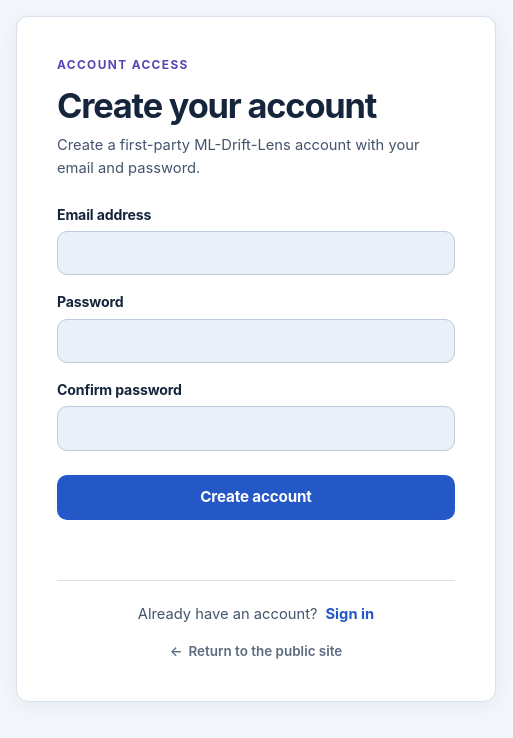
Test: Authentication pages › requires matching confirmation and navigates to sign-in only after server registration succeeds
Expected: the heading "Create your account" is shown, [57,85,376,126]
Type "new@example.test" into the field labelled "Email address" at x=256, y=253, box [57,231,455,275]
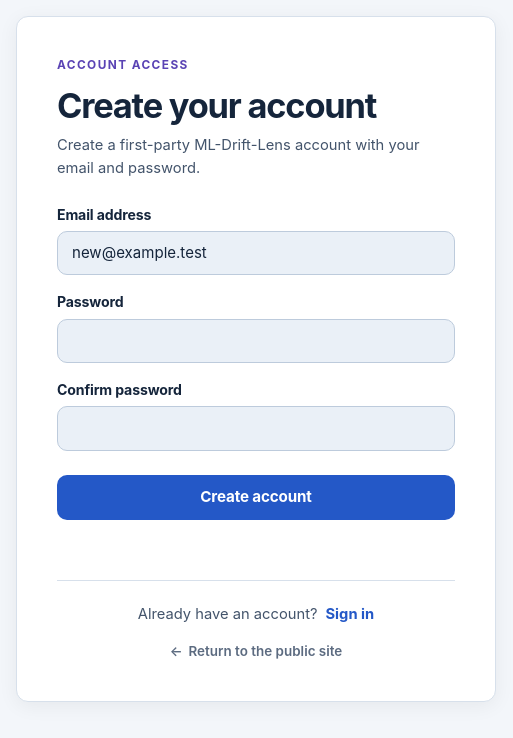
Type "a-long-secure-password" into the password field labelled "Password" at x=256, y=341, box [57,318,455,363]
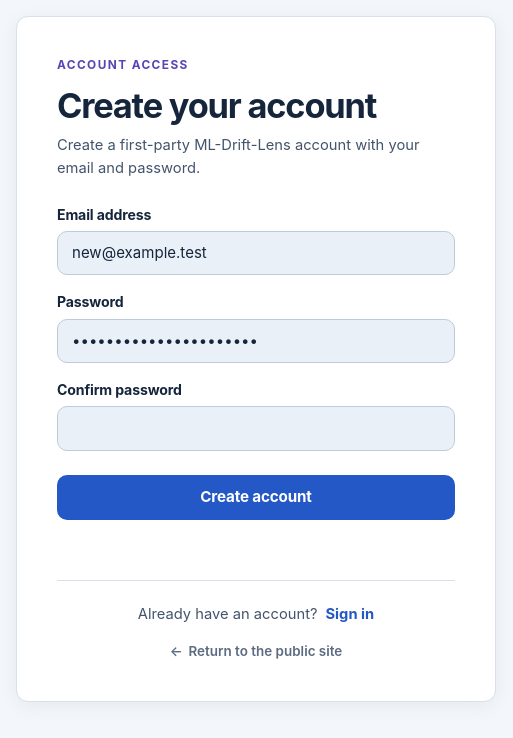
Type "a-different-password" into the password field labelled "Confirm password" at x=256, y=428, box [57,406,455,451]
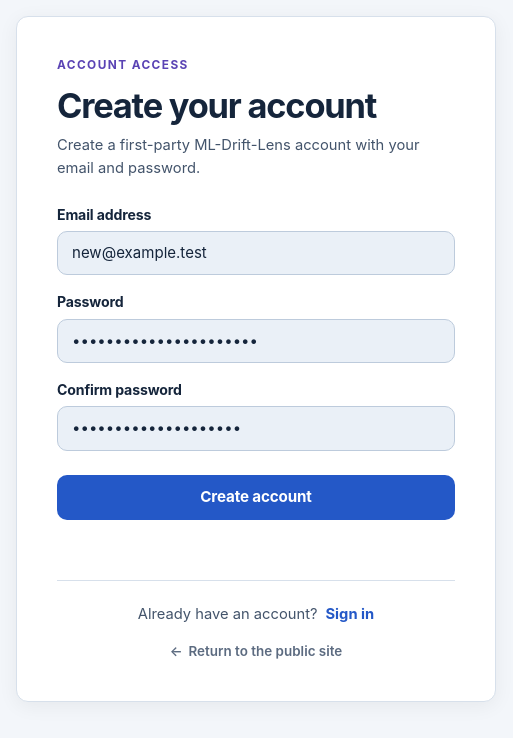
Click the button "Create account" at x=256, y=497, box [57,475,455,520]
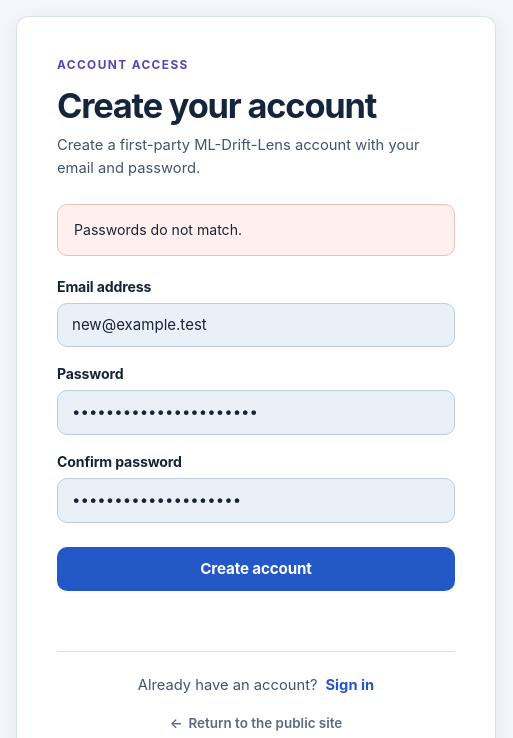
Expected: the message "Passwords do not match." is shown, [57,204,455,256]
Type "a-long-secure-password" into the password field labelled "Confirm password" at x=256, y=500, box [57,478,455,522]
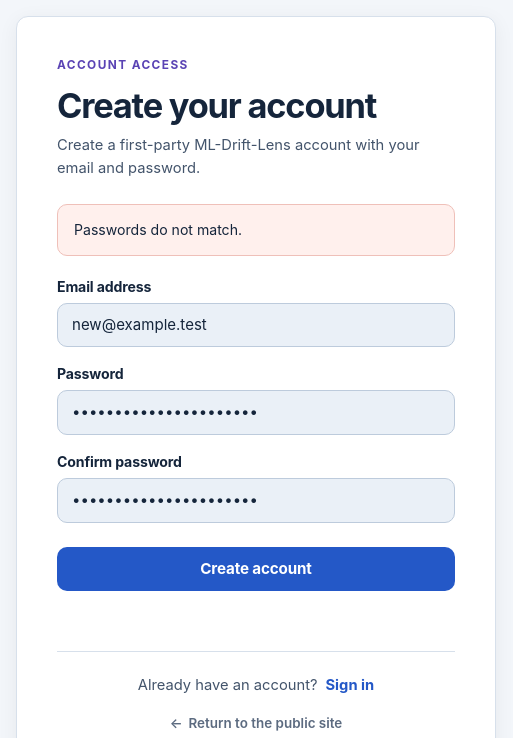
Click the button "Create account" at x=256, y=569, box [57,546,455,591]
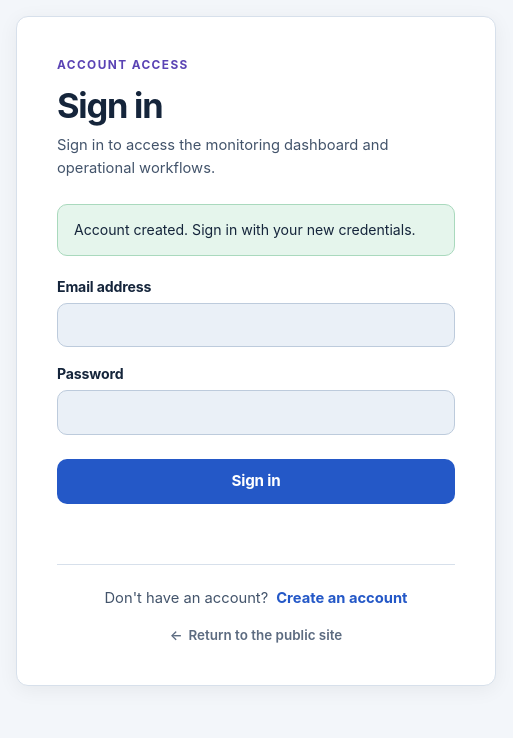
Expected: the text "Account created. Sign in with your new credentials." is shown, [57,204,455,256]
